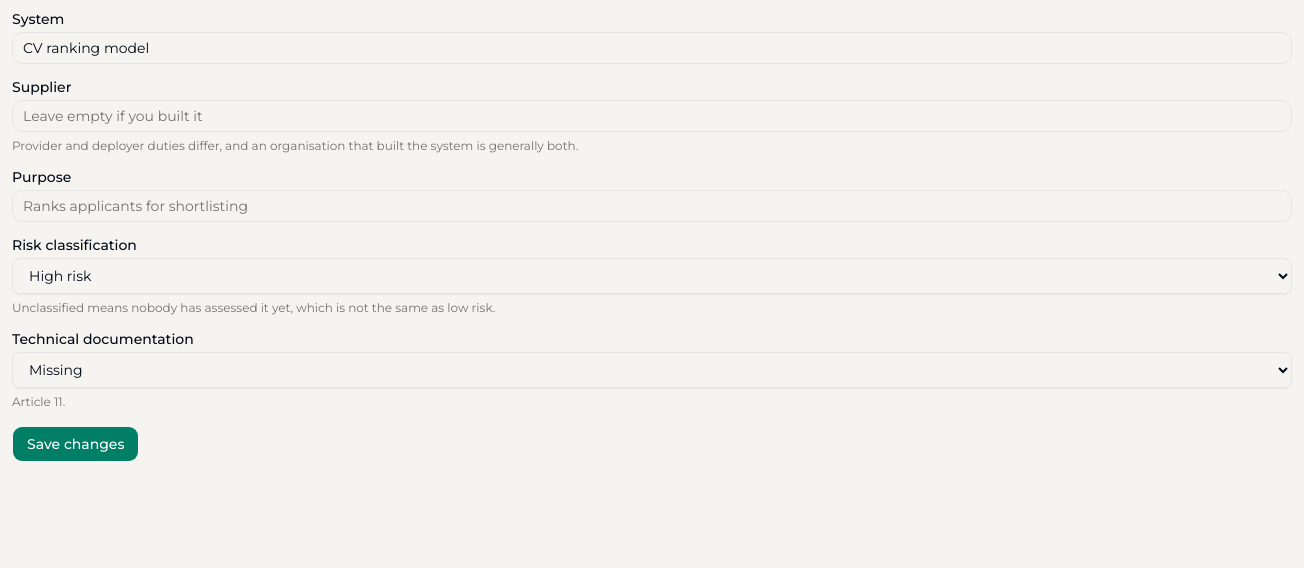
Scenario: the AI system form › asks for a reviewed approval as soon as the classification changes
Expected: the text "reviewed approval" is not shown
Select "Minimal" in the dropdown labelled "Risk classification" at (652, 276), box [12,258,1292,294]
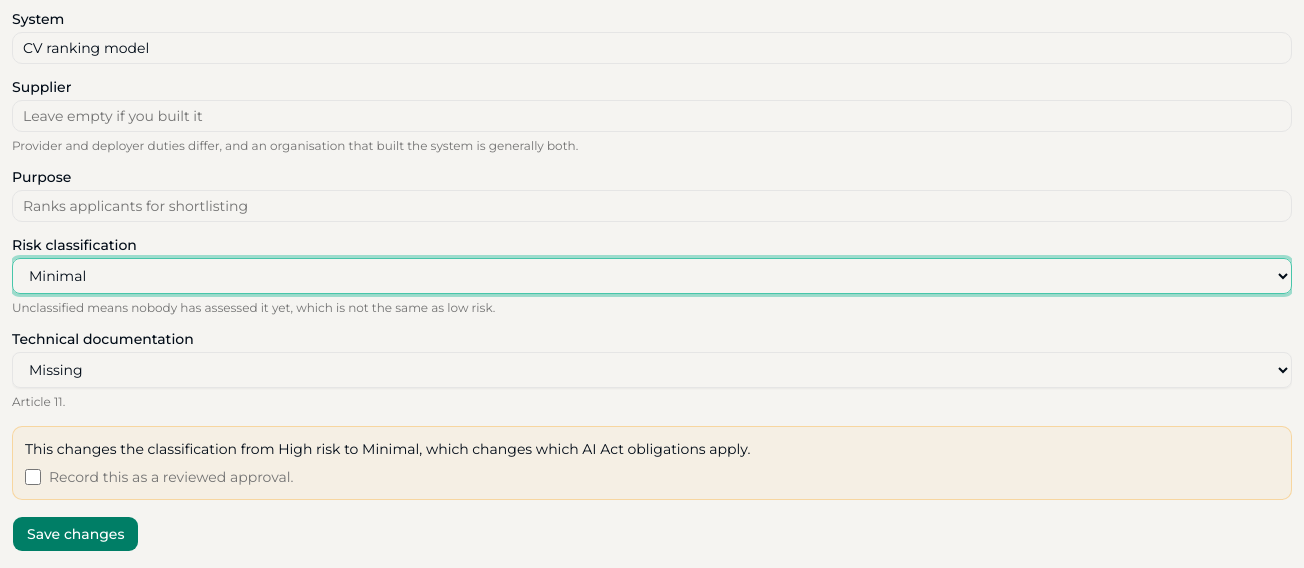
Expected: the text "Record this as a reviewed approval." is shown, [49,467,294,487]
Expected: the text "This changes the classification from High risk to Minimal, which changes which AI Act obligations apply." is shown, [25,440,750,458]
